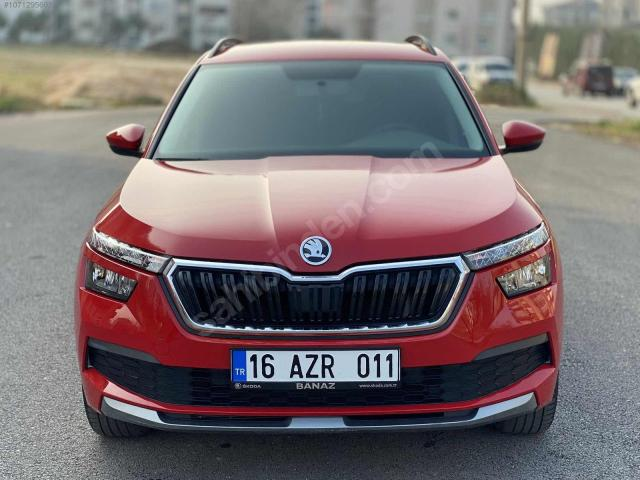plaka: (232, 349, 400, 389)
